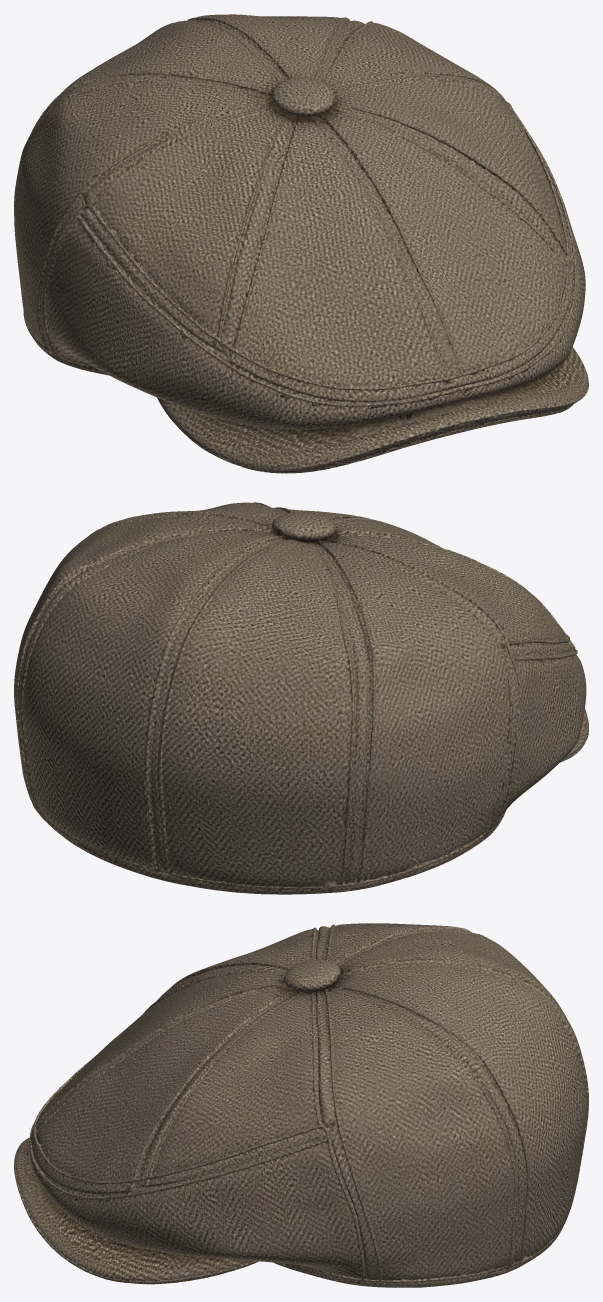
File: shelby_kepka.glb
3 views of the same model, one above another, from view 1: azimuth 30°, elevation 25°; view 2: azimuth 150°, elevation 25°; view 3: azimuth 270°, elevation 25° (orthographic). The views are drawn at different scales.
Parts seen in each view (by area): view 1: tripo_node_1d914ae8-518a-4bb8-84f7-b4444c28a178; view 2: tripo_node_1d914ae8-518a-4bb8-84f7-b4444c28a178; view 3: tripo_node_1d914ae8-518a-4bb8-84f7-b4444c28a178.
Boxes of the visible parts, x1,y1,x2,y2 form: tripo_node_1d914ae8-518a-4bb8-84f7-b4444c28a178: (14, 14, 588, 473); tripo_node_1d914ae8-518a-4bb8-84f7-b4444c28a178: (14, 502, 588, 894); tripo_node_1d914ae8-518a-4bb8-84f7-b4444c28a178: (14, 923, 588, 1287).
Bounding box in the file's own units: 0.8543 × 0.4638 × 0.9792.
Materials: 1 (1 with a texture image).
